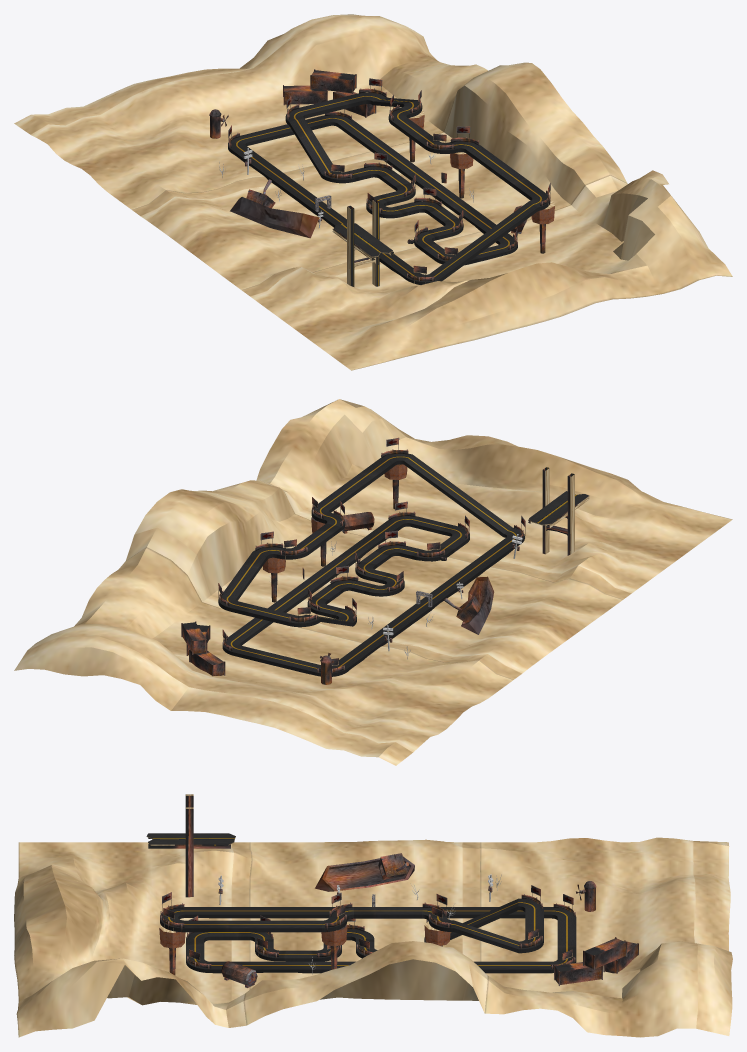
File: RaceTrack (2).fbx
3 views of the same model, one above another, from view 1: azimuth 30°, elevation 25°; view 2: azimuth 150°, elevation 25°; view 3: azimuth 270°, elevation 25° (orthographic). The views are drawn at different scales.
Visible parts, largest first — view 1: Terrain, RaceTrack.007, RaceTrack.003, Road, OldShip, RaceTrack.035, RaceTrack.033, RaceTrack.025, Container.001, RaceTrack.005, Container.002, RaceTrack.027 (+1 smaller); view 2: Terrain, RaceTrack.003, RaceTrack.007, Road, RaceTrack.035, OldShip, RaceTrack.033, RaceTrack.005, RaceTrack.029, RaceTrack.027, Container.002, Container.001 (+1 smaller); view 3: Terrain, OldShip, RaceTrack.003, RaceTrack.007, Road, RaceTrack.033, Container.001, Container, RaceTrack.031, RaceTrack.029, RaceTrack.005, RaceTrack.025 (+7 smaller).
Boxes of the visible parts, <box> form: Terrain: <box>14,14,732,370</box>; RaceTrack.007: <box>338,120,512,244</box>; RaceTrack.003: <box>231,146,419,279</box>; Road: <box>332,199,393,286</box>; OldShip: <box>230,179,319,238</box>; RaceTrack.035: <box>429,201,537,281</box>; RaceTrack.033: <box>466,146,545,200</box>; RaceTrack.025: <box>289,118,333,177</box>; Container.001: <box>310,69,356,93</box>; RaceTrack.005: <box>240,116,328,145</box>; Container.002: <box>283,85,327,105</box>; RaceTrack.027: <box>299,94,363,117</box>; Terrain: <box>14,399,732,765</box>; RaceTrack.003: <box>336,537,521,671</box>; RaceTrack.007: <box>228,521,402,645</box>; Road: <box>528,467,589,555</box>; RaceTrack.035: <box>404,454,512,537</box>; OldShip: <box>444,576,494,634</box>; RaceTrack.033: <box>318,458,395,512</box>; RaceTrack.005: <box>235,646,320,675</box>; RaceTrack.029: <box>223,552,267,600</box>; RaceTrack.027: <box>231,601,296,625</box>; Container.002: <box>189,649,225,676</box>; Container.001: <box>181,621,207,654</box>; Terrain: <box>14,837,732,1037</box>; OldShip: <box>315,853,414,891</box>; RaceTrack.003: <box>184,907,550,918</box>; RaceTrack.007: <box>211,961,551,973</box>; Road: <box>146,794,235,897</box>; RaceTrack.033: <box>185,920,321,932</box>; Container.001: <box>583,937,627,970</box>; Container: <box>554,962,602,985</box>; RaceTrack.031: <box>354,907,421,918</box>; RaceTrack.029: <box>454,920,518,952</box>; RaceTrack.005: <box>557,917,576,958</box>; RaceTrack.025: <box>450,899,518,939</box>.
Size of the model in its own units: 7969 by 1694 by 12176.
